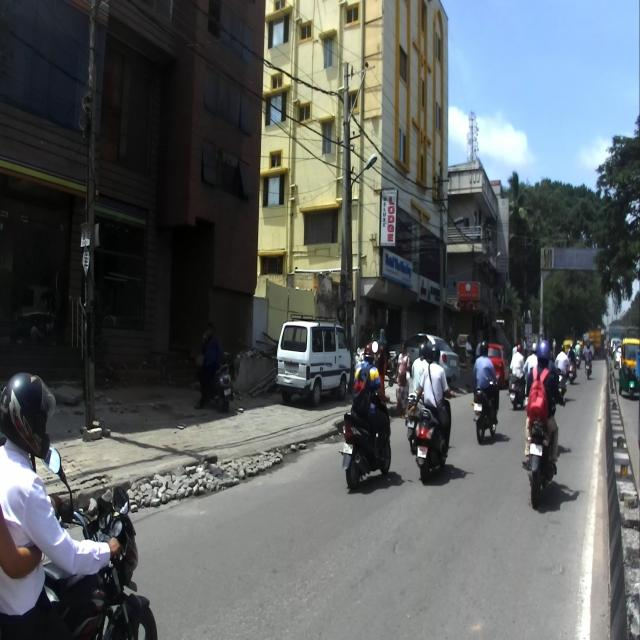Car_Maruti-Suzuki: (276, 313, 352, 408)
motorcycle: (522, 392, 566, 508)
motorcycle_bajaj: (37, 445, 158, 639)
scooter: (339, 375, 394, 491), (415, 374, 455, 481), (201, 348, 234, 414)
